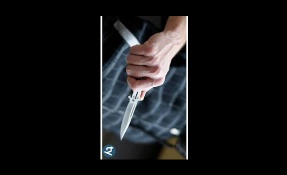k1: (118, 93, 145, 143)
